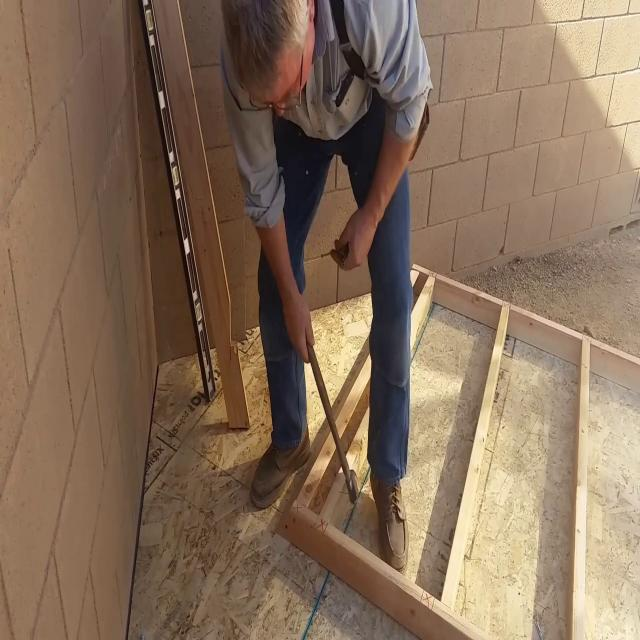hammer: (306, 338, 358, 502)
